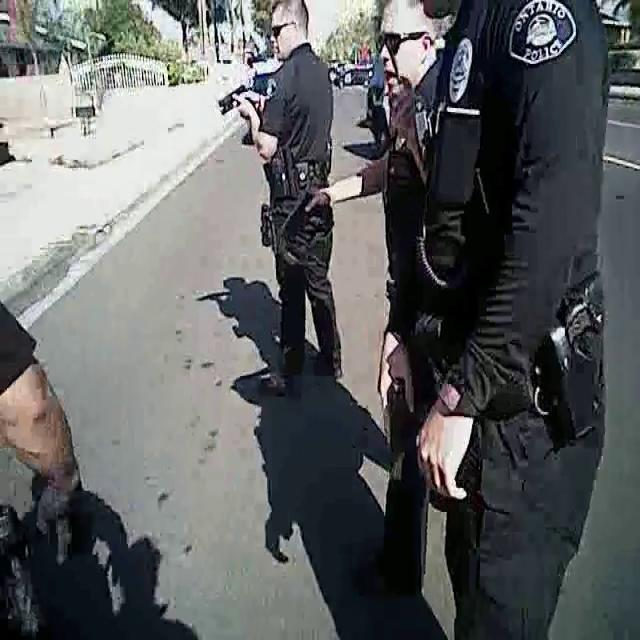gun: (257, 160, 335, 260), (205, 75, 267, 129)
